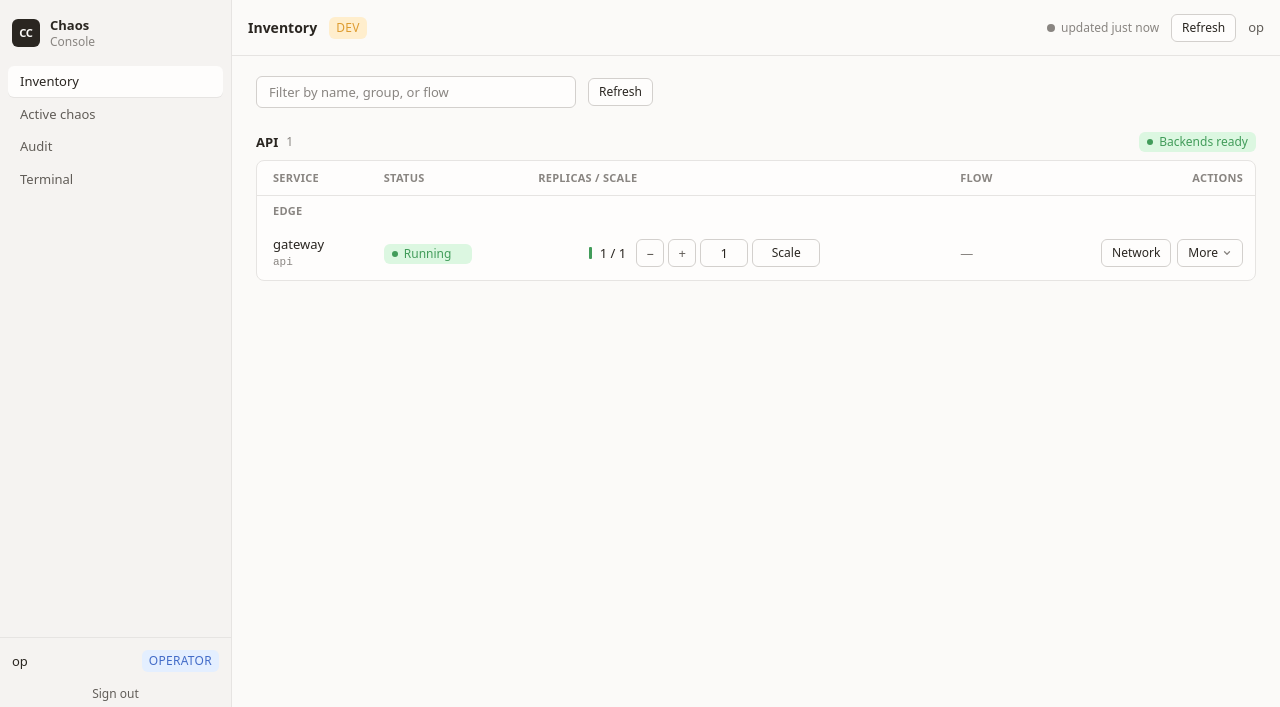
Test: <App/> shell › clicking a service name in inventory navigates to its detail page
The width and height of the screenshot is (1280, 707).
Click the button with aria-label "open gateway detail" at (299, 244), box [273,235,324,253]
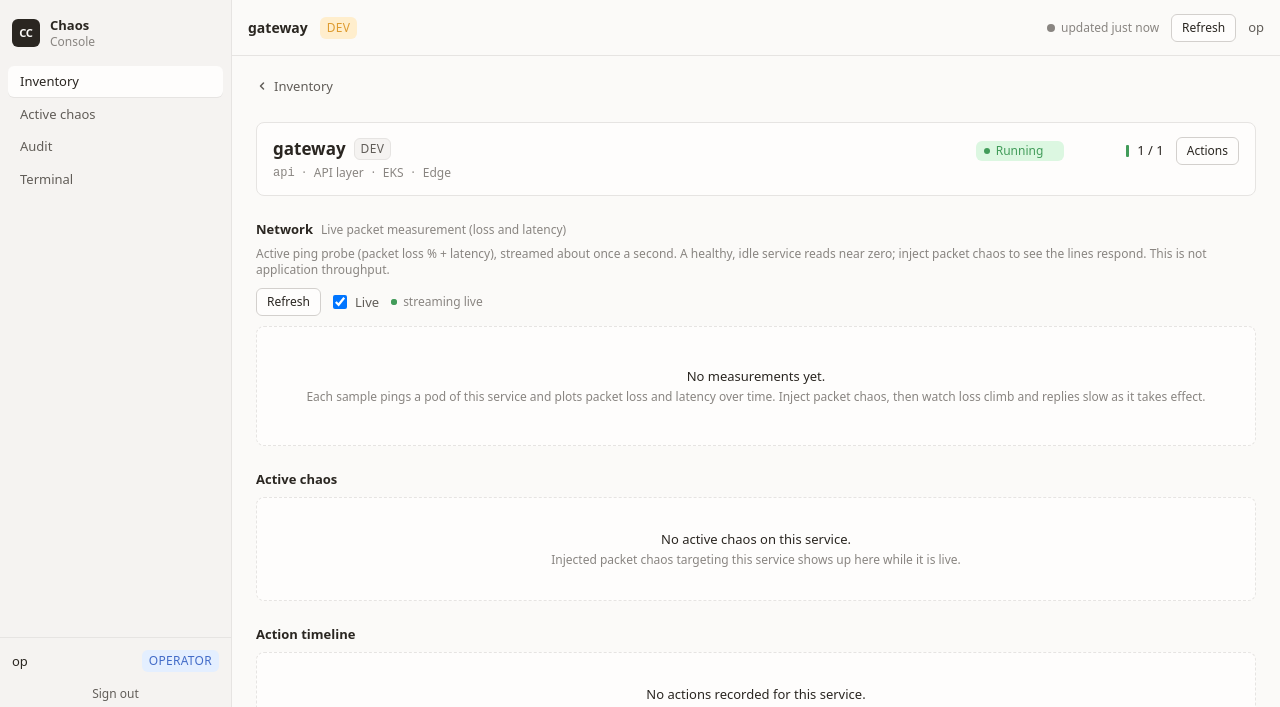
Expected: the heading "gateway" is shown, [248,17,308,38]
